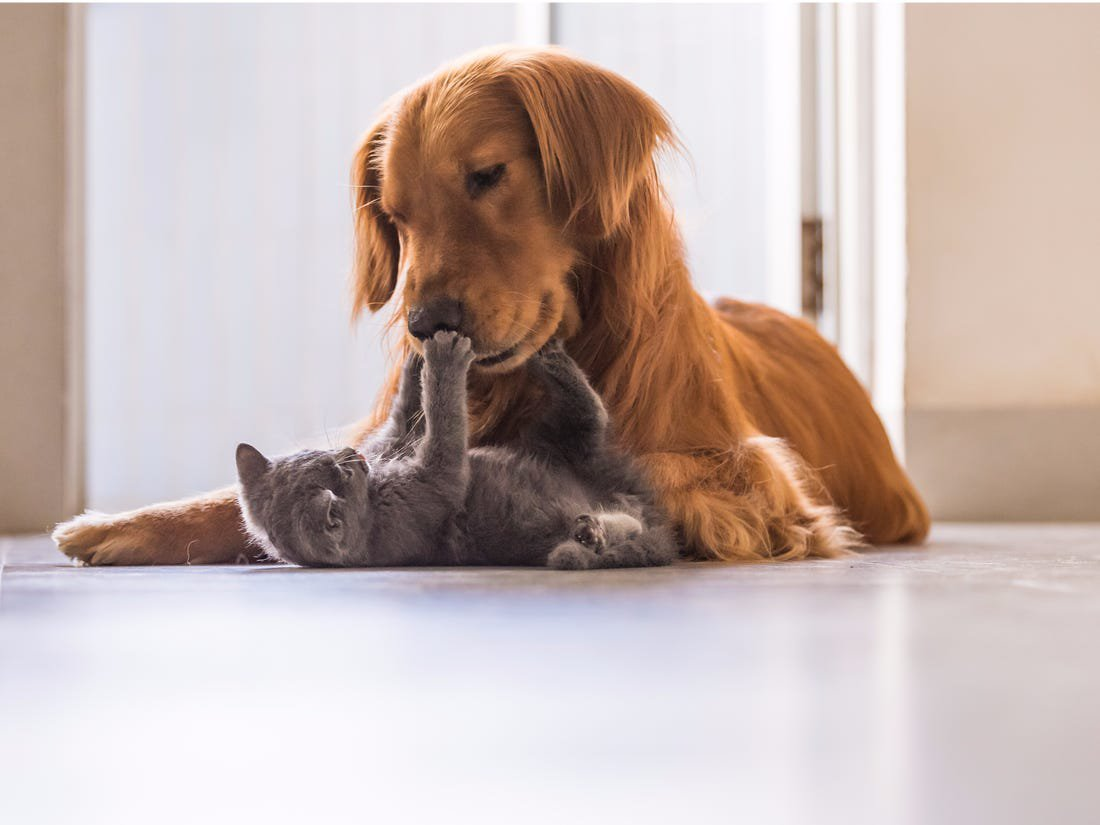dog: (353, 38, 947, 531), (233, 321, 673, 573)
